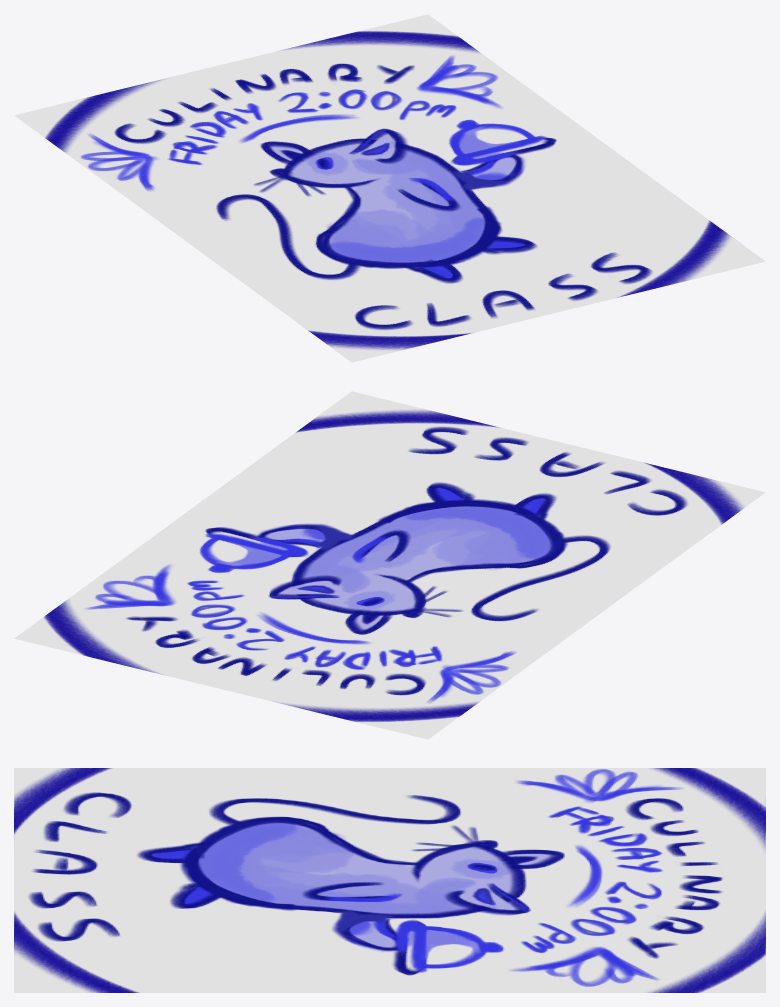
File: Rat_poster_Blue_1.fbx
3 renders of one model, top to bottom at view 1: azimuth 30°, elevation 25°; view 2: azimuth 150°, elevation 25°; view 3: azimuth 270°, elevation 25°, orthographic. The views are drawn at different scales.
Parts seen in each view (by area): view 1: pPlane1; view 2: pPlane1; view 3: pPlane1.
Part boxes in pixels (x1,y1,x2,y2): pPlane1: (14,14,765,362); pPlane1: (14,391,765,739); pPlane1: (14,768,765,992).
Size of the model in its own units: 1.33 by 0 by 1.88.
